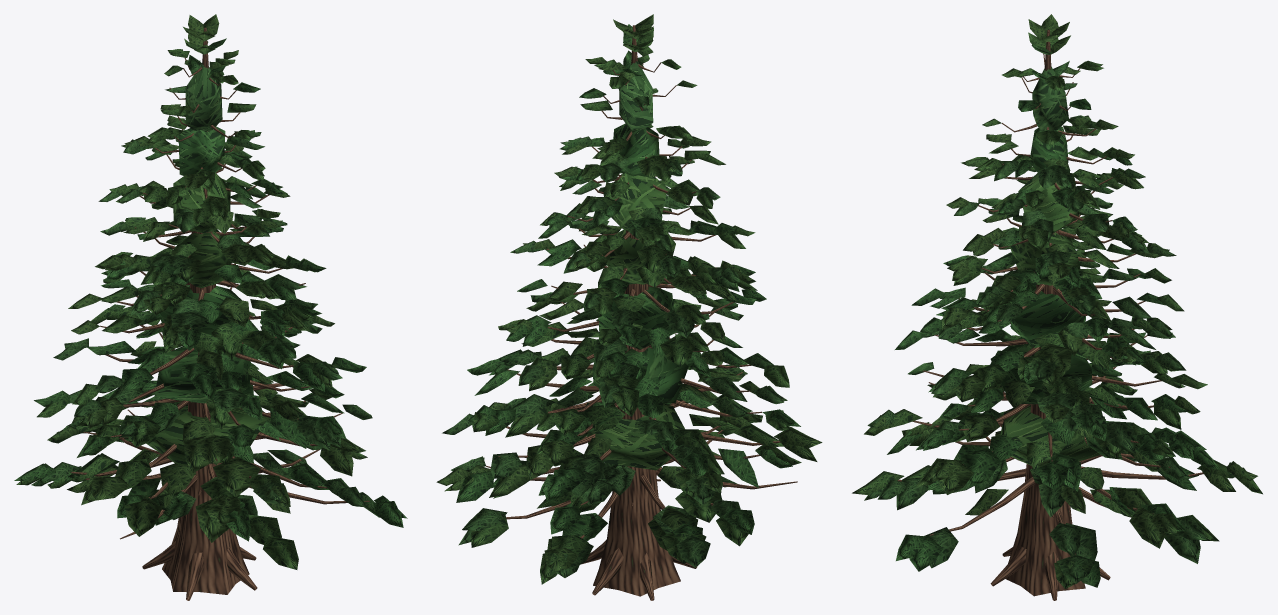
File: HighlandPineTree.fbx
The picture shows the model from 3 angles, left to right: view 1: azimuth 30°, elevation 25°; view 2: azimuth 150°, elevation 25°; view 3: azimuth 270°, elevation 25°; orthographic projection.
Visible parts, largest first — view 1: HighlandPineTree_Foliage, HighlandPineTree_Bark; view 2: HighlandPineTree_Foliage, HighlandPineTree_Bark; view 3: HighlandPineTree_Foliage, HighlandPineTree_Bark.
Part boxes in pixels (x1=…): HighlandPineTree_Foliage: x1=14, y1=14, x2=407, y2=569; HighlandPineTree_Bark: x1=70, y1=27, x2=369, y2=600; HighlandPineTree_Foliage: x1=436, y1=14, x2=822, y2=584; HighlandPineTree_Bark: x1=474, y1=25, x2=797, y2=600; HighlandPineTree_Foliage: x1=852, y1=14, x2=1262, y2=588; HighlandPineTree_Bark: x1=879, y1=29, x2=1203, y2=600.
Size of the model in its own units: 13.17 by 21.03 by 14.16.
Materials: 2 (2 with a texture image).
